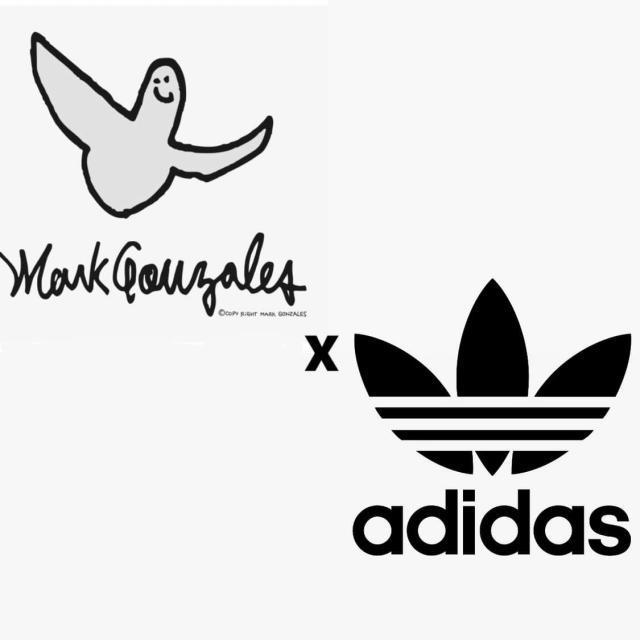Adidas: (352, 253, 638, 490)
